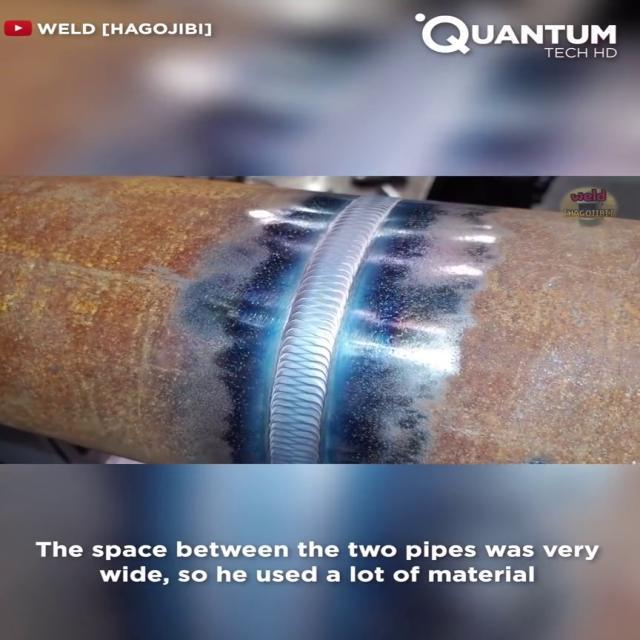Good Welding: (270, 196, 398, 464)
